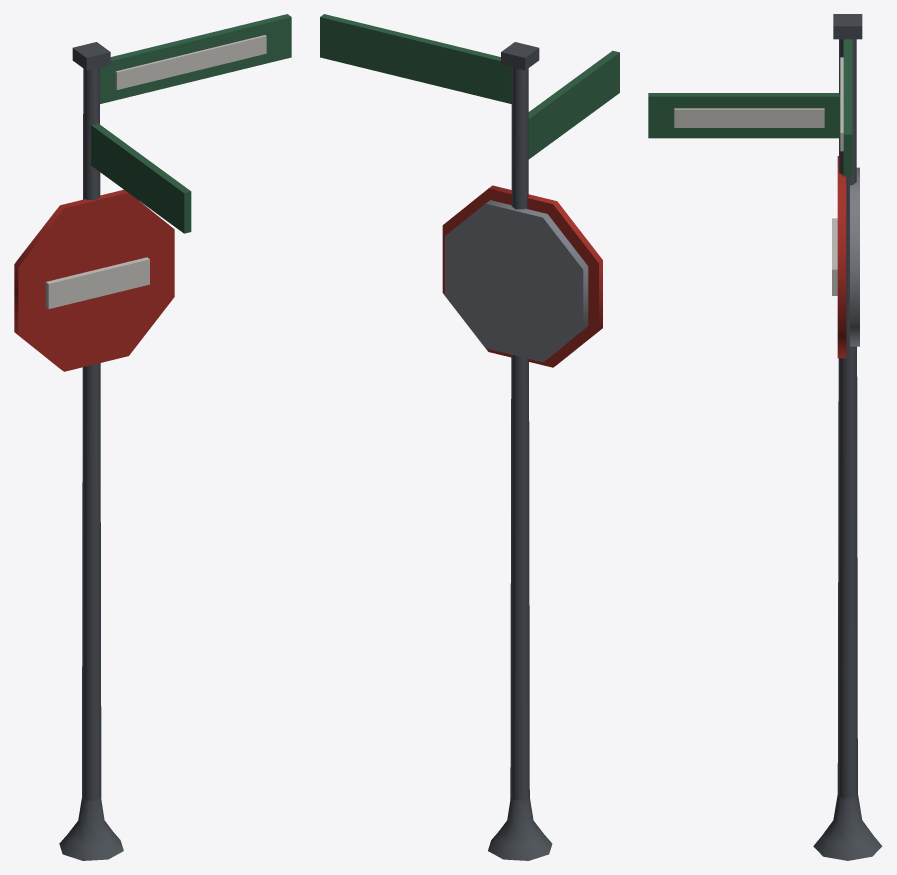
Rendered from street-sign-01.glb.
The picture shows the model from 3 angles, left to right: view 1: azimuth 30°, elevation 25°; view 2: azimuth 150°, elevation 25°; view 3: azimuth 270°, elevation 25°; orthographic projection. The views are drawn at different scales.
Visible parts, largest first — view 1: street_sign_01; view 2: street_sign_01; view 3: street_sign_01.
Part boxes in pixels (box(x1,y1,x2,y2)): street_sign_01: box(14, 14, 291, 860); street_sign_01: box(320, 14, 619, 860); street_sign_01: box(648, 14, 882, 860).
Bounding box in the file's own units: 1.14 × 3.15 × 0.81.
